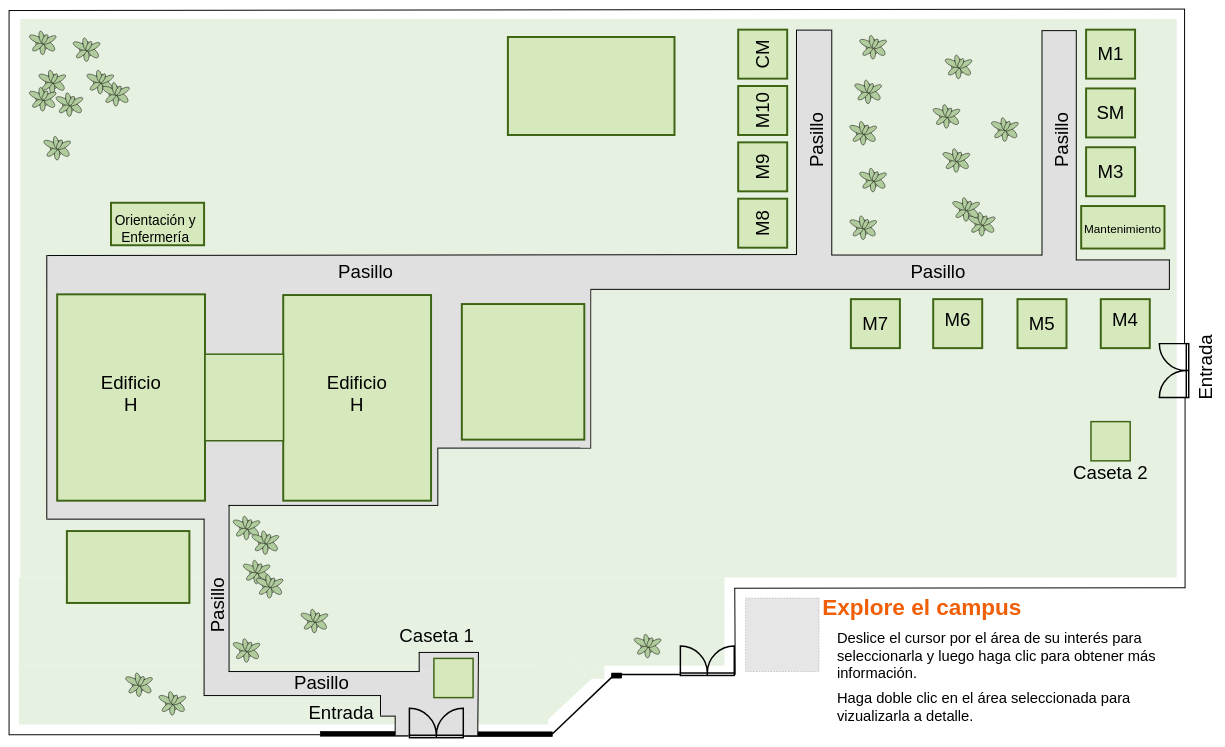
This 1225x747 diagram has some shape labels left out. Grey dashed boxes stand in for pictures. The centre of each missing label's shape, as x and y in pixels:
"Domo" goes at point 591,86.
"Taller de Mantenimiento" goes at point 523,371.
"Área cafetería" goes at point 128,567.
